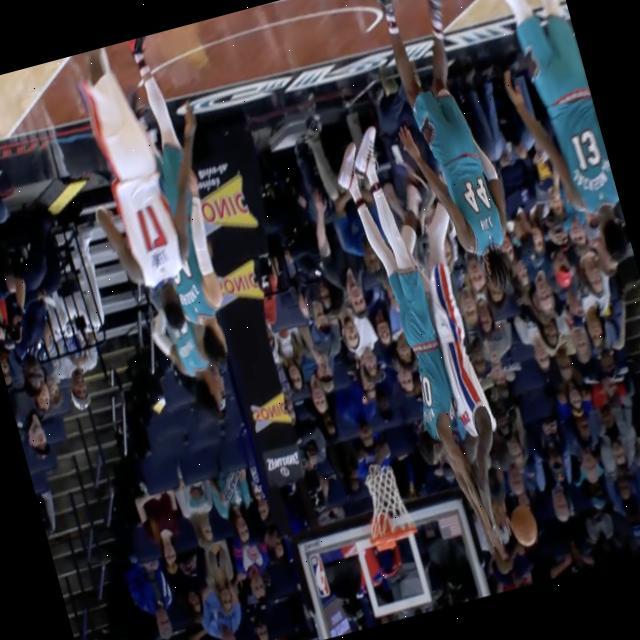foul: (337, 94, 540, 576)
no foul: (59, 36, 232, 389), (357, 0, 520, 297), (115, 33, 242, 373)
